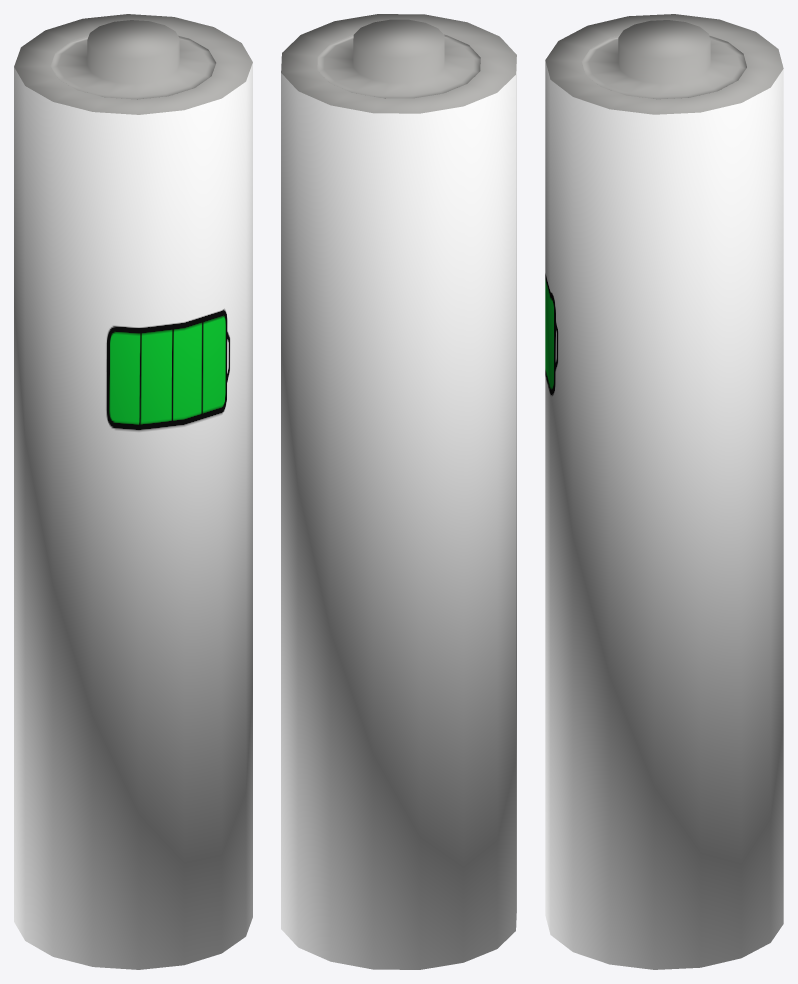
Rendered from BatteryFINAL.fbx.
3 views of the same model, side by side, from view 1: azimuth 30°, elevation 25°; view 2: azimuth 150°, elevation 25°; view 3: azimuth 270°, elevation 25° (orthographic).
Parts seen in each view (by area): view 1: Cylinder.001; view 2: Cylinder.001; view 3: Cylinder.001.
Boxes of the visible parts, <box> form: Cylinder.001: <box>14,14,252,969</box>; Cylinder.001: <box>281,14,516,969</box>; Cylinder.001: <box>545,14,783,969</box>.
Size of the model in its own units: 74.07 by 304 by 74.07.
